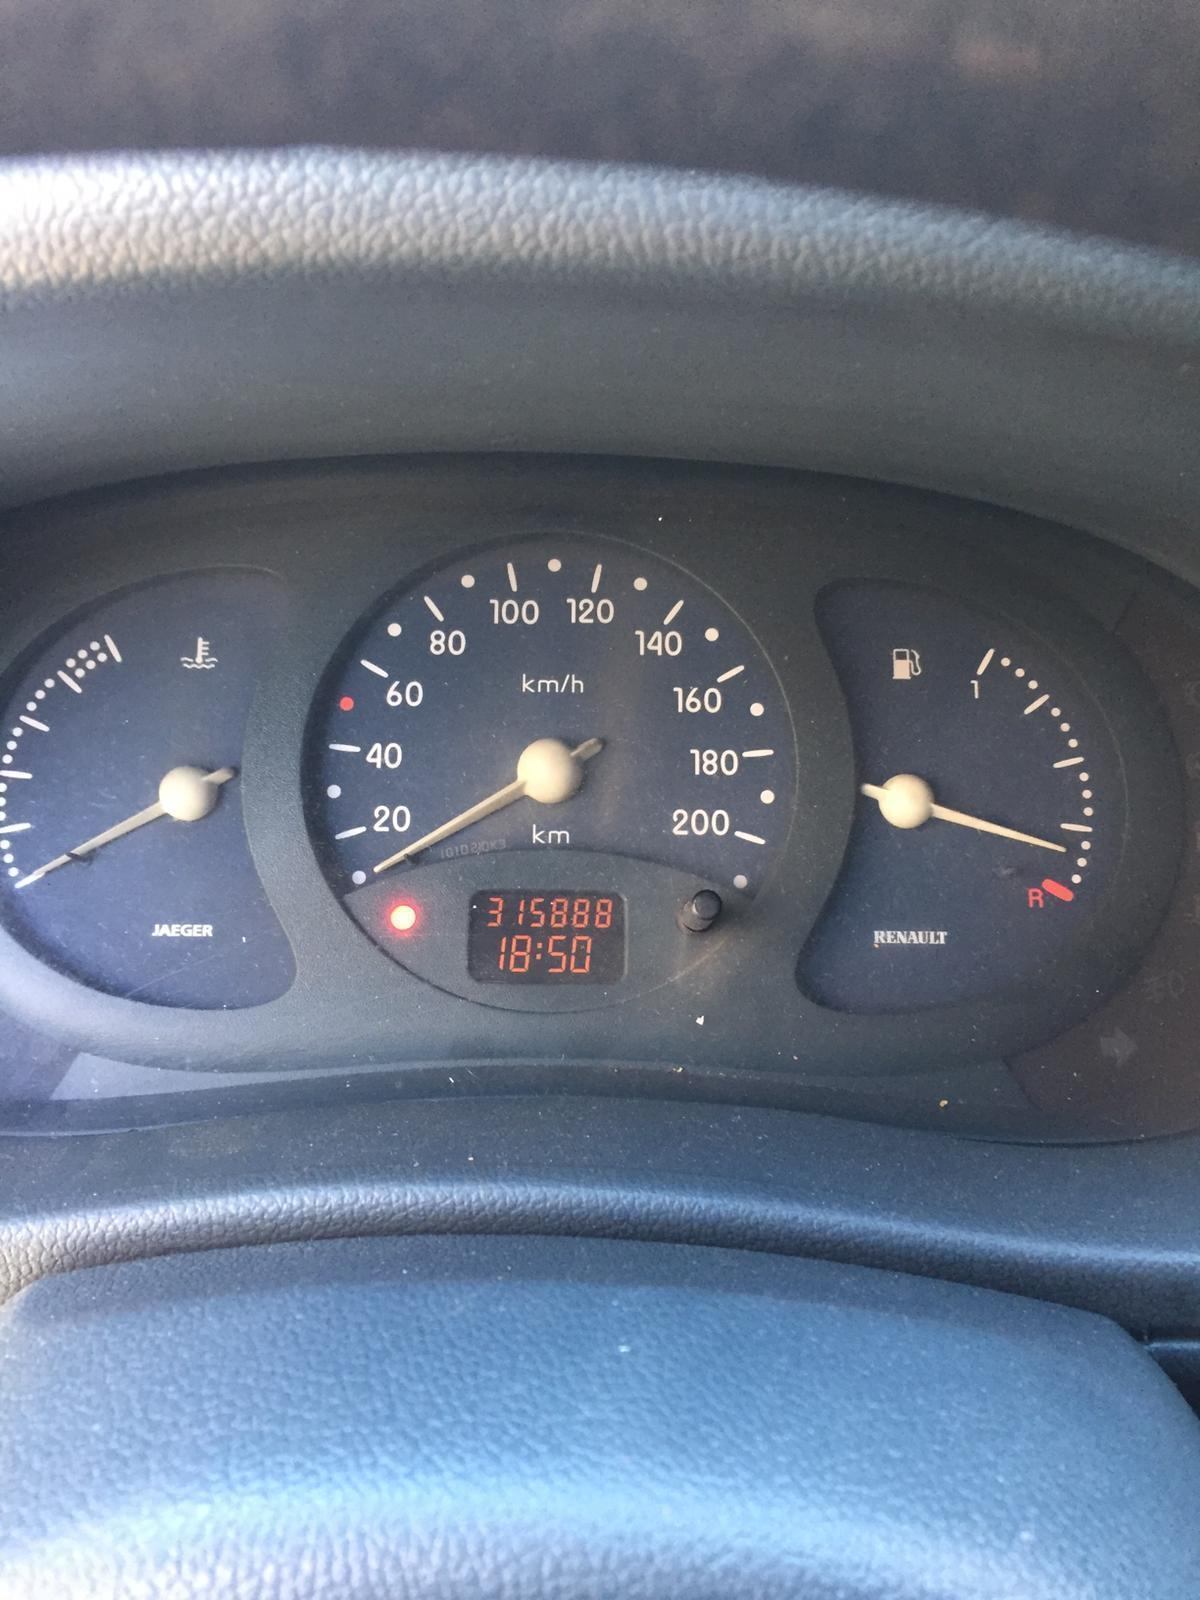0: (568, 934, 592, 973)
1: (498, 935, 505, 971), (517, 900, 524, 926)
3: (487, 896, 503, 927)
5: (547, 934, 566, 973), (529, 897, 545, 927)
8: (508, 934, 531, 973), (550, 898, 568, 929), (594, 898, 613, 929), (572, 898, 590, 929)
X: (534, 941, 543, 960)
odometer: (463, 886, 629, 989)
